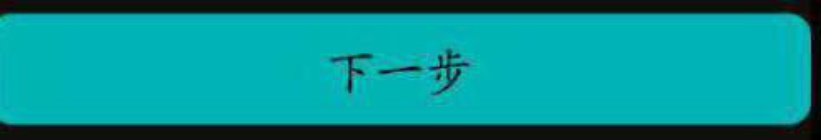Button: (1, 1, 820, 139)
